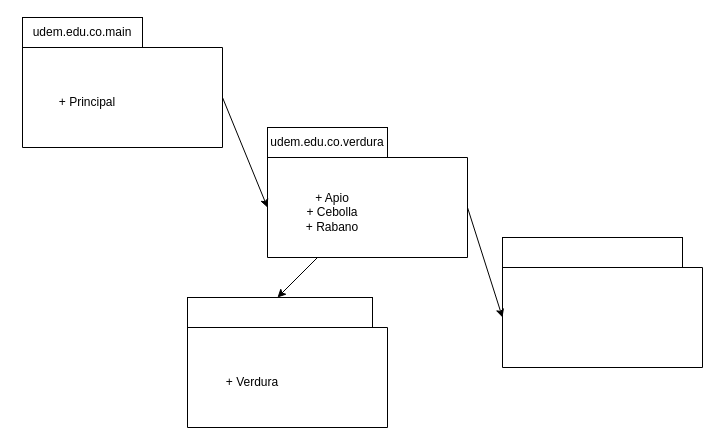
The diagram is 720 pixels wide and 445 high, and some of its shapes have lost their labels. Here are the shapes that lost their labels. From the top down, the centre of each, then its label:
the point at 592,252: udem.edu.co.verdura.abstract
the point at 279,312: udem.edu.co.verdura.interfaces
the point at 602,317: + Tallo + Raiz + Bulbo
